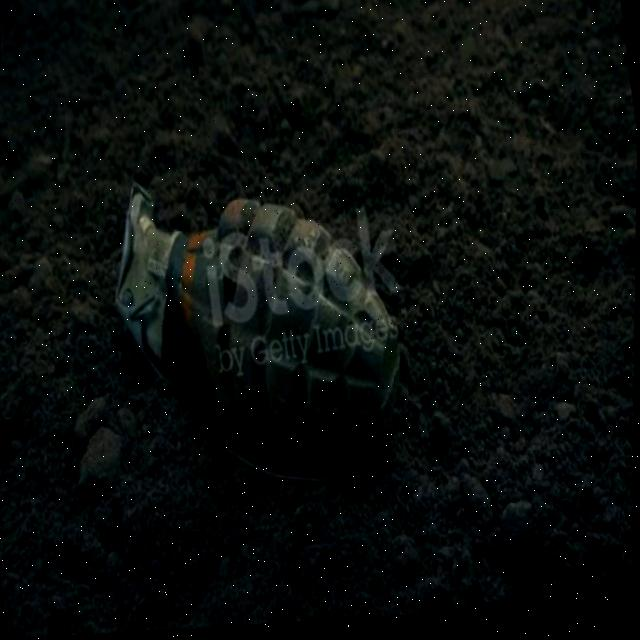grenade: (98, 132, 417, 513)
